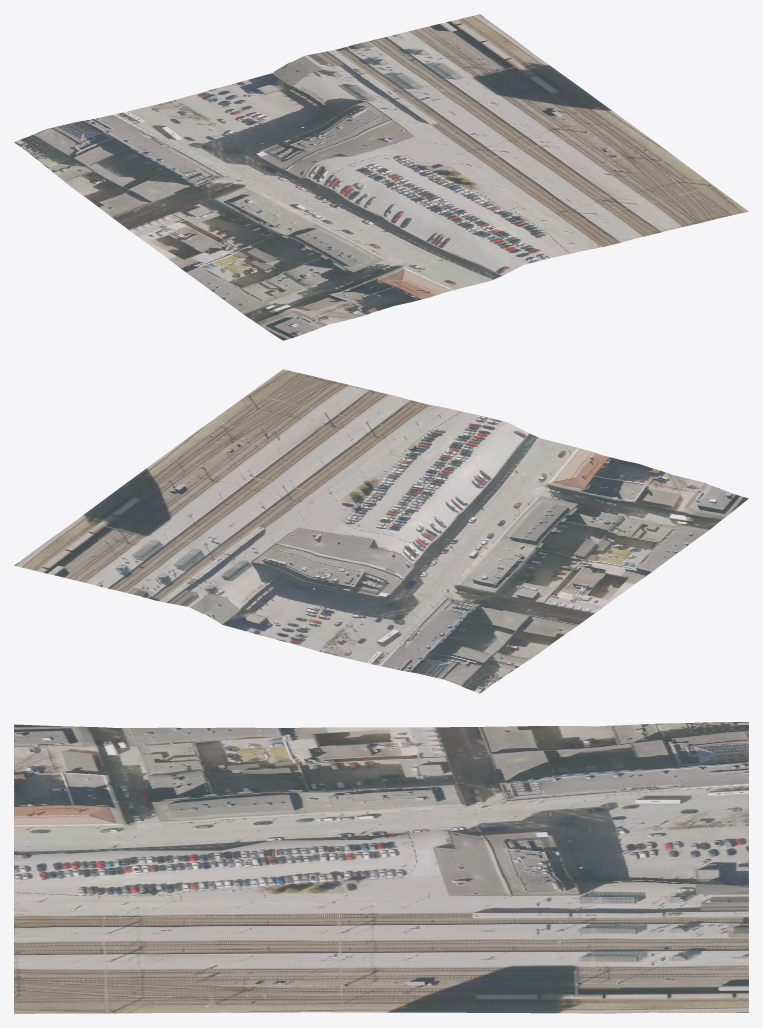
Rendered from CM_Terrain_24487797_6820818.fbx.
3 renders of one model, top to bottom at view 1: azimuth 30°, elevation 25°; view 2: azimuth 150°, elevation 25°; view 3: azimuth 270°, elevation 25°, orthographic. The views are drawn at different scales.
Parts seen in each view (by area): view 1: CM_Terrain_24487797_6820818_LOD0; view 2: CM_Terrain_24487797_6820818_LOD0; view 3: CM_Terrain_24487797_6820818_LOD0.
Part boxes in pixels (left/top/right/bottom): CM_Terrain_24487797_6820818_LOD0: left=14, top=14, right=748, bottom=340; CM_Terrain_24487797_6820818_LOD0: left=14, top=369, right=748, bottom=693; CM_Terrain_24487797_6820818_LOD0: left=14, top=722, right=748, bottom=1013.
Size of what is drawn, in the model's own units: 205 by 8.54 by 205.
